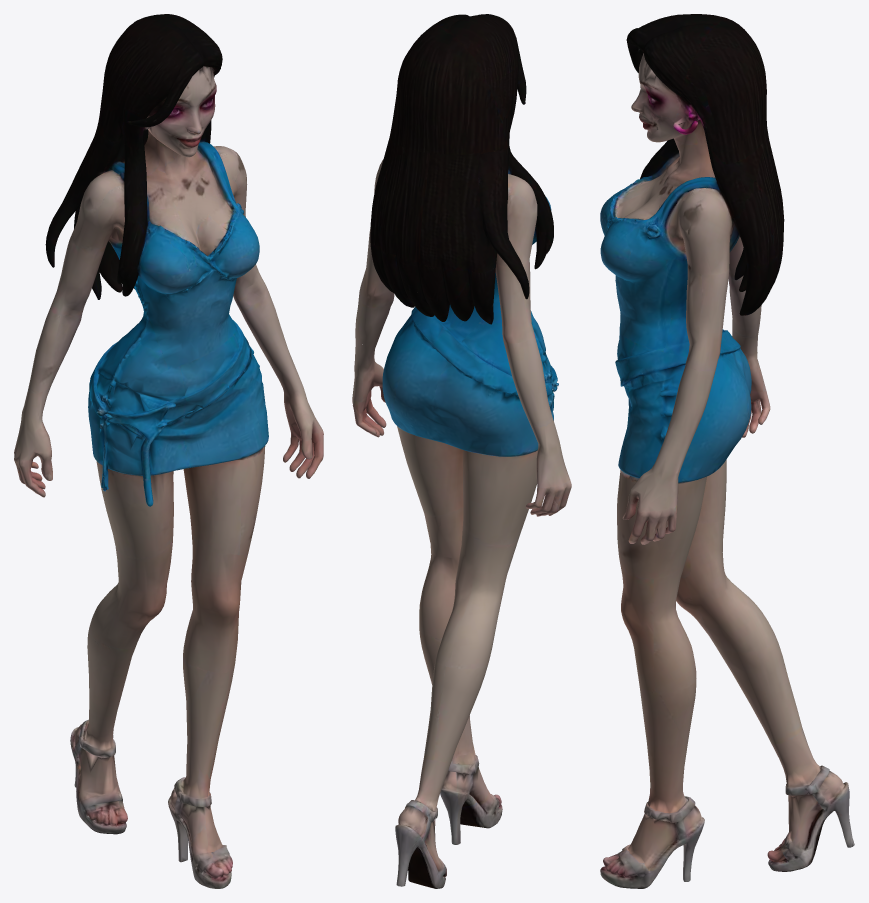
Rendered from mob_amei.glb.
3 renders of one model, left to right at view 1: azimuth 30°, elevation 25°; view 2: azimuth 150°, elevation 25°; view 3: azimuth 270°, elevation 25°, orthographic. The views are drawn at different scales.
Parts seen in each view (by area): view 1: tripo_node_18e53f4a-62e8-4962-b5b9-cd1e682752b6; view 2: tripo_node_18e53f4a-62e8-4962-b5b9-cd1e682752b6; view 3: tripo_node_18e53f4a-62e8-4962-b5b9-cd1e682752b6.
Part boxes in pixels (box(x1,y1,x2,y2)): tripo_node_18e53f4a-62e8-4962-b5b9-cd1e682752b6: box(14, 14, 323, 888); tripo_node_18e53f4a-62e8-4962-b5b9-cd1e682752b6: box(352, 14, 571, 888); tripo_node_18e53f4a-62e8-4962-b5b9-cd1e682752b6: box(600, 14, 854, 888).
Bounding box in the file's own units: 0.3171 × 0.9792 × 0.2636.
1 material, 1 textured.
